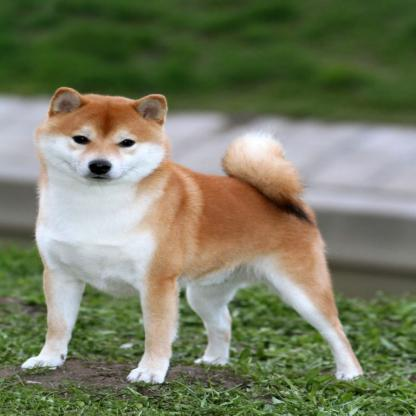Siba-ny: (20, 84, 368, 382)
